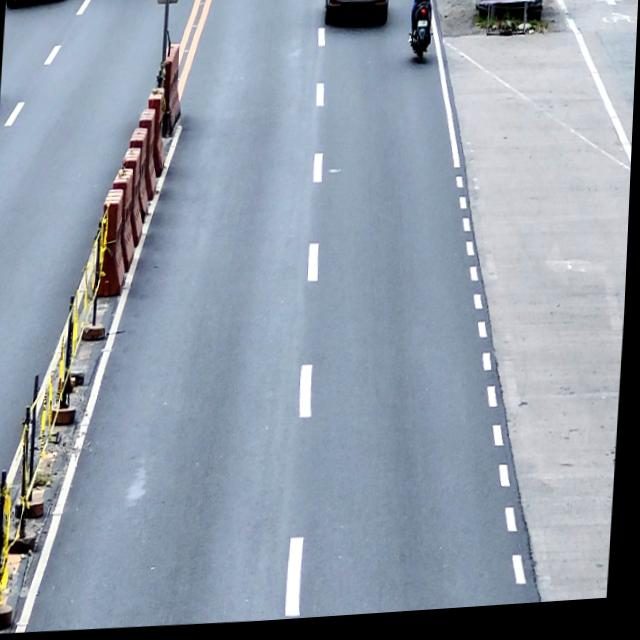Car: (323, 0, 390, 33)
License-Plate: (417, 25, 428, 33)
Motorcycle: (405, 0, 437, 69)
